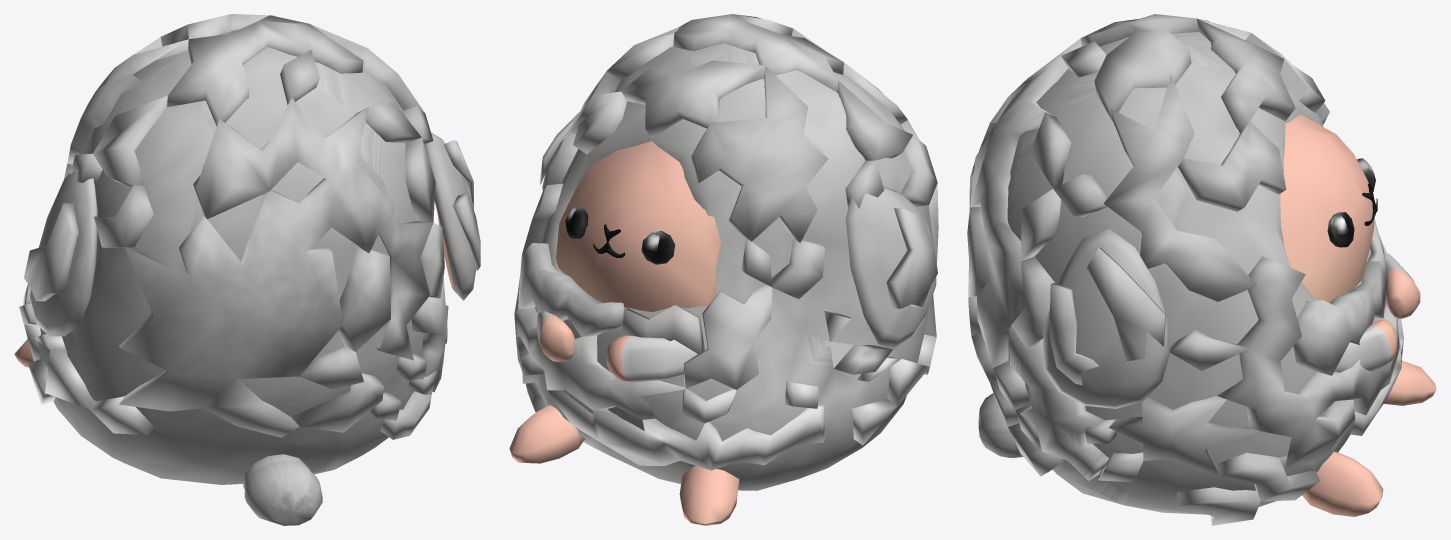
Rendered from H_SheepPlushie.fbx.
3 renders of one model, left to right at view 1: azimuth 30°, elevation 25°; view 2: azimuth 150°, elevation 25°; view 3: azimuth 270°, elevation 25°, orthographic. The views are drawn at different scales.
Visible parts, largest first — view 1: SheepPlushie; view 2: SheepPlushie; view 3: SheepPlushie.
Boxes of the visible parts, <box> form: SheepPlushie: <box>14,14,480,525</box>; SheepPlushie: <box>509,14,938,525</box>; SheepPlushie: <box>967,14,1436,525</box>.
Size of the model in its own units: 55.33 by 56.35 by 53.09.
